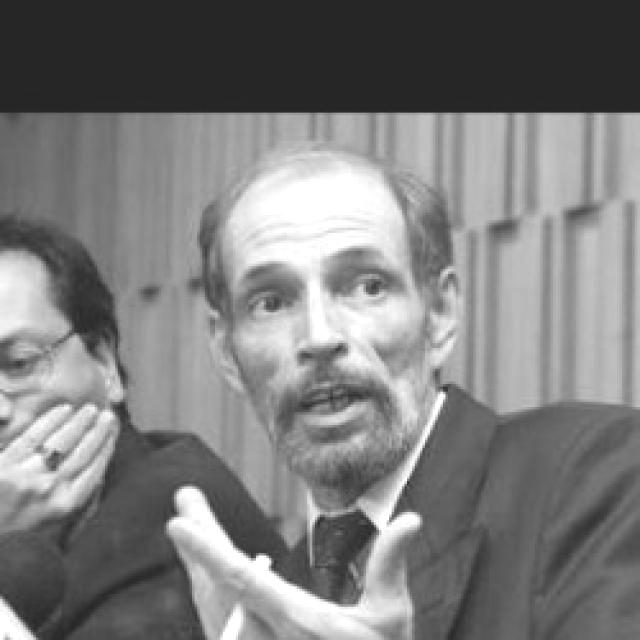real: (224, 185, 428, 485), (240, 276, 403, 321), (5, 346, 38, 383)
